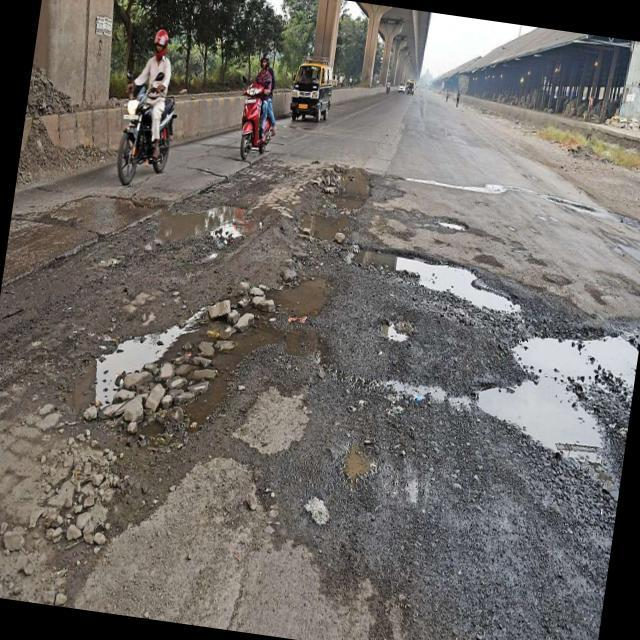Pothole: (496, 336, 636, 474), (355, 241, 510, 313), (87, 317, 176, 407), (308, 162, 366, 252), (172, 198, 248, 260), (206, 302, 268, 377), (276, 271, 332, 318), (372, 316, 407, 348), (436, 212, 468, 240)
